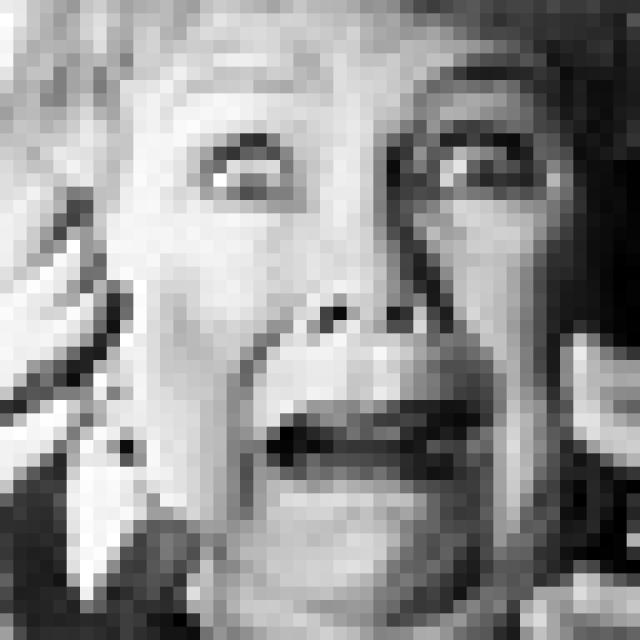fear: (154, 54, 565, 568)
